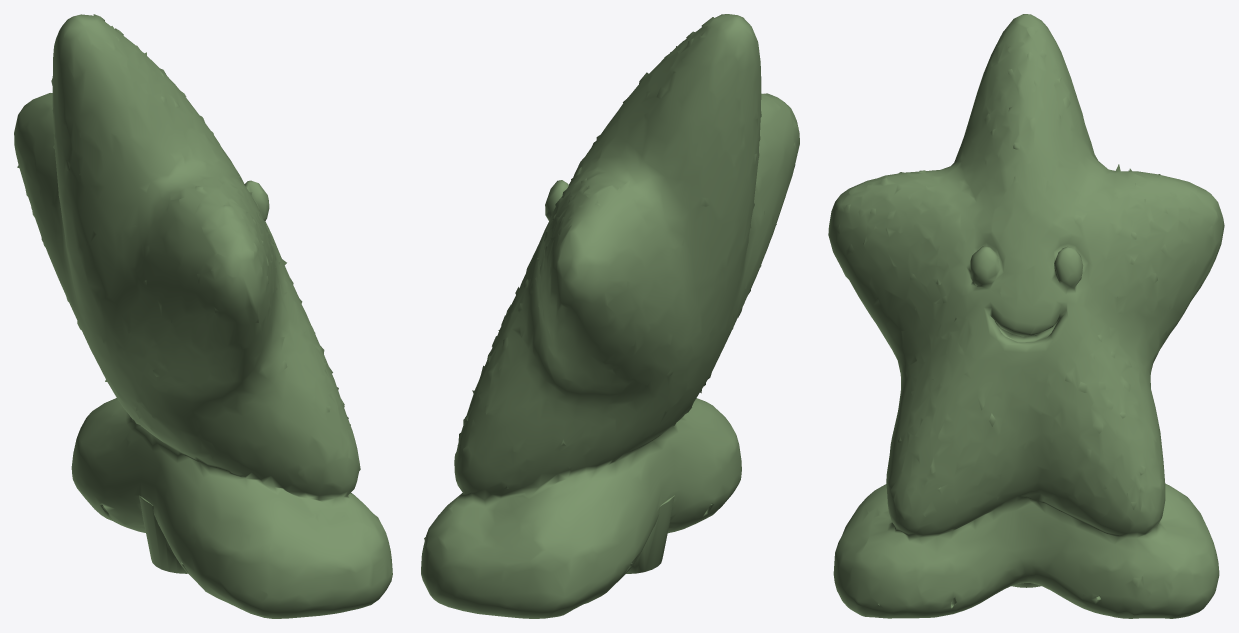
The model's file is starfish-friend.glb.
The picture shows the model from 3 angles, left to right: view 1: azimuth 30°, elevation 25°; view 2: azimuth 150°, elevation 25°; view 3: azimuth 270°, elevation 25°; orthographic projection. The views are drawn at different scales.
Parts seen in each view (by area): view 1: tripo_printable_source; view 2: tripo_printable_source; view 3: tripo_printable_source.
Part boxes in pixels (box(x1,y1,x2,y2)): tripo_printable_source: box(14, 14, 392, 618); tripo_printable_source: box(421, 14, 799, 618); tripo_printable_source: box(828, 14, 1224, 618).
Size of the model in its own units: 46.98 by 100 by 70.
